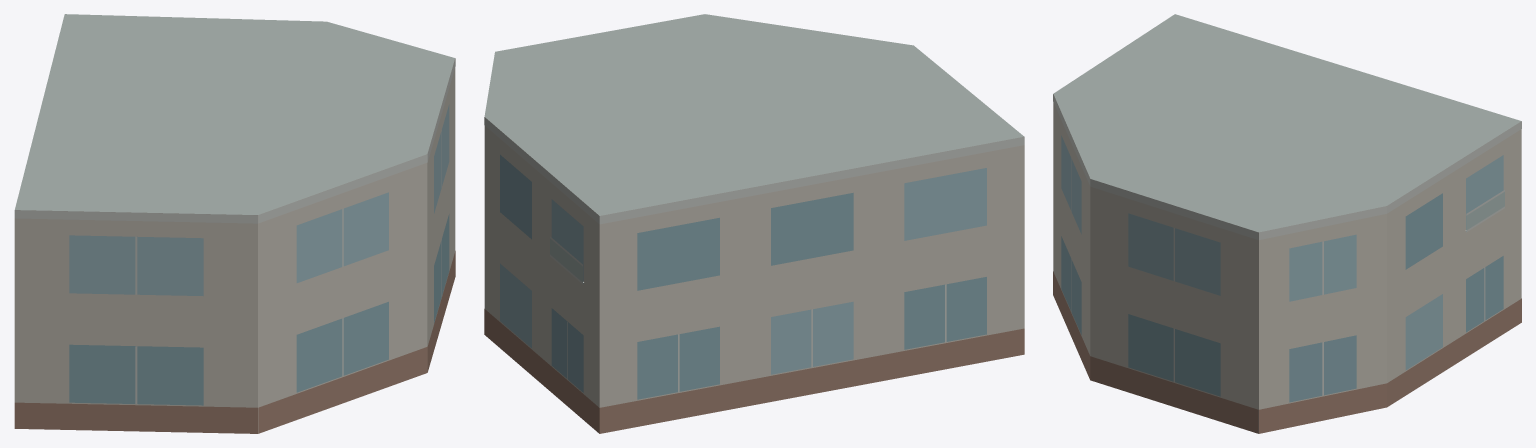
The model's file is survey-upis-32498065.glb.
3 views of the same model, side by side, from view 1: azimuth 30°, elevation 25°; view 2: azimuth 150°, elevation 25°; view 3: azimuth 270°, elevation 25° (orthographic). The views are drawn at different scales.
Visible parts, largest first — view 1: survey-upis-32498065.tmp; view 2: survey-upis-32498065.tmp; view 3: survey-upis-32498065.tmp.
Part boxes in pixels (x1,y1,x2,y2): survey-upis-32498065.tmp: [14, 14, 455, 433]; survey-upis-32498065.tmp: [484, 14, 1024, 433]; survey-upis-32498065.tmp: [1053, 14, 1521, 433].
Bounding box in the file's own units: 14.66 × 6.3 × 13.29.
